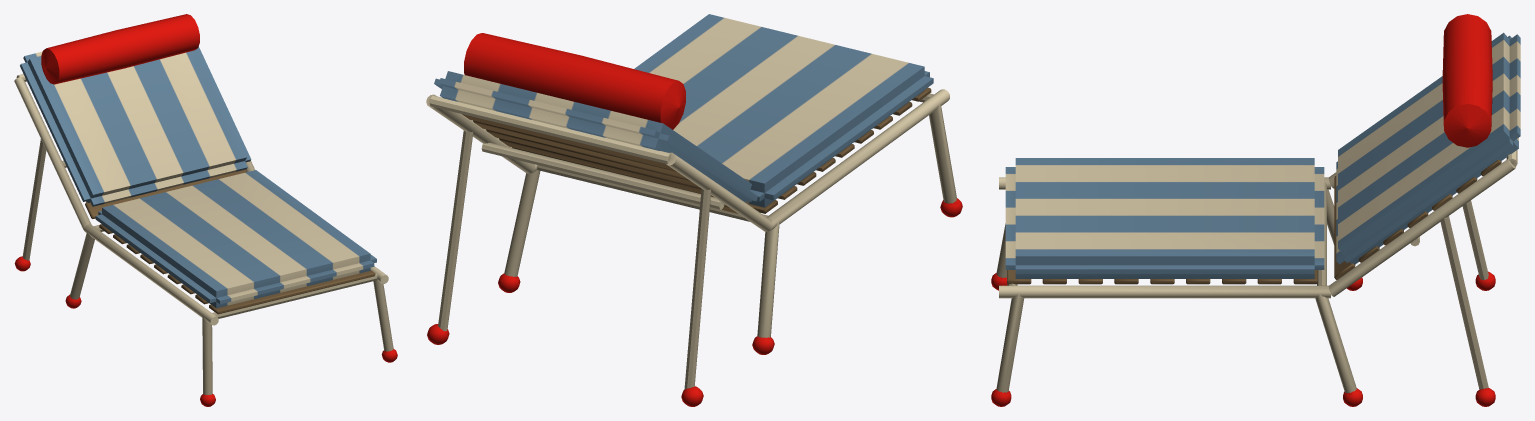
Rendered from beach-lounger.glb.
The picture shows the model from 3 angles, left to right: view 1: azimuth 30°, elevation 25°; view 2: azimuth 150°, elevation 25°; view 3: azimuth 270°, elevation 25°; orthographic projection. The views are drawn at different scales.
Visible parts, largest first — view 1: pad, frame, accent, slats; view 2: pad, frame, accent, slats; view 3: pad, frame, accent, slats.
Boxes of the visible parts, box(x1,y1,x2,y2) form: pad: box(20, 46, 376, 308); frame: box(14, 74, 393, 394); accent: box(14, 14, 397, 406); slats: box(85, 169, 375, 314); pad: box(434, 14, 933, 207); frame: box(426, 89, 956, 389); accent: box(427, 33, 962, 406); slats: box(462, 87, 931, 213); pad: box(1005, 32, 1520, 278); frame: box(996, 150, 1517, 393); accent: box(991, 14, 1495, 406); slats: box(1007, 159, 1501, 284).
Size of the model in its own units: 0.6686 by 0.7242 by 1.2.
